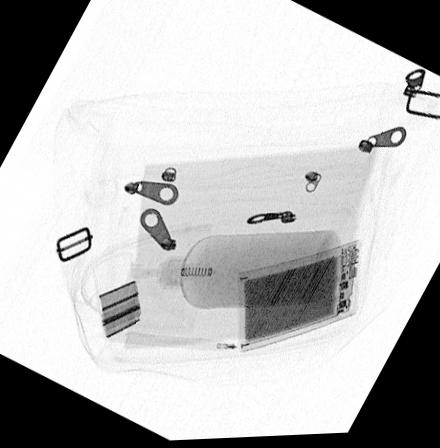Powerbank: (240, 242, 362, 353)
